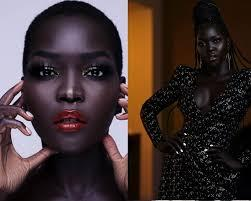Persons: (18, 0, 130, 157), (181, 5, 242, 78)
